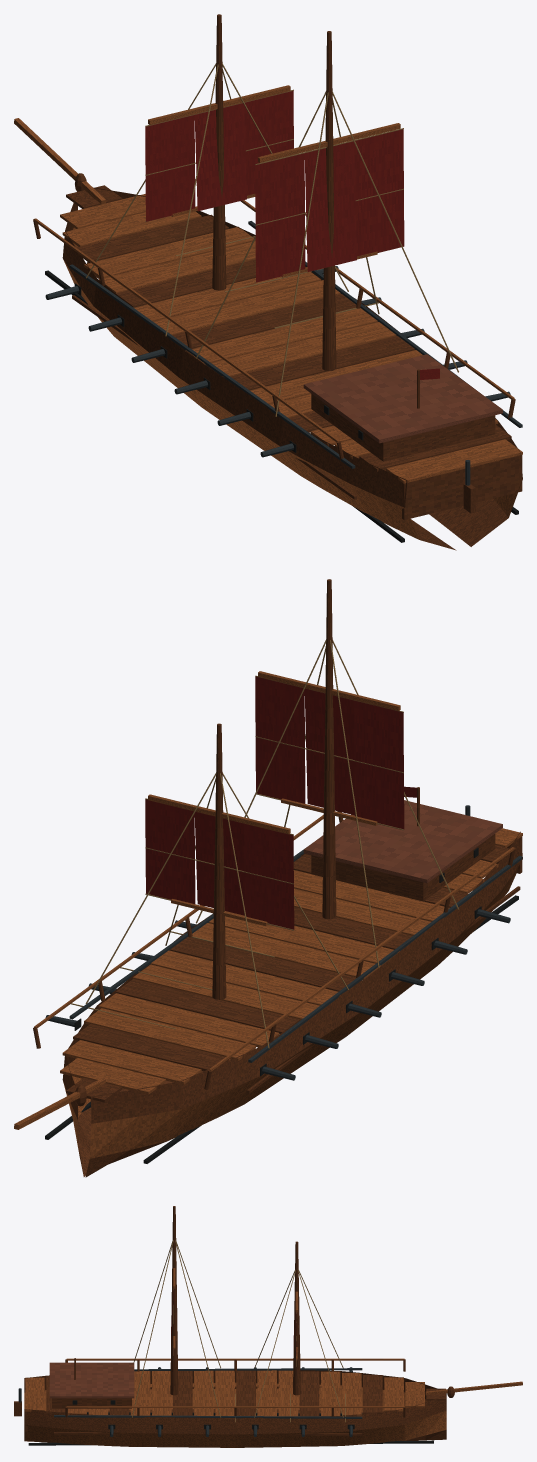
The model's file is KIT_ship_armada_brig.gltf.
3 views of the same model, one above another, from view 1: azimuth 30°, elevation 25°; view 2: azimuth 150°, elevation 25°; view 3: azimuth 270°, elevation 25° (orthographic). The views are drawn at different scales.
Visible parts, largest first — view 1: hull, sail_02, sail_01; view 2: hull, sail_02, sail_01; view 3: hull.
Part boxes in pixels (x1,y1,x2,y2): hull: (14,14,522,550); sail_02: (255,128,404,282); sail_01: (145,89,293,221); hull: (14,579,522,1177); sail_02: (255,675,404,830); sail_01: (145,798,294,930); hull: (24,1206,522,1447).
Size of the model in its own units: 7.15 by 11.56 by 22.9.
7 materials, 7 textured.
